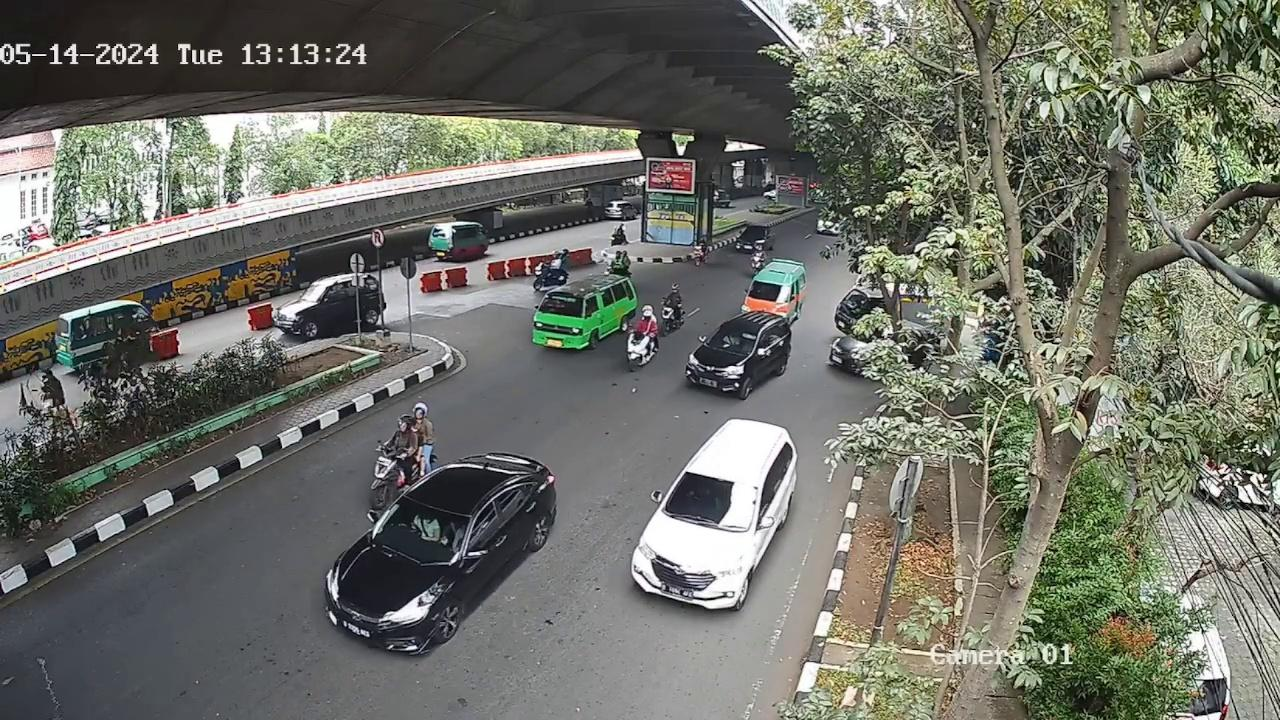pakai: (409, 512, 440, 542)
windshield: (379, 495, 471, 567), (667, 469, 752, 527)
